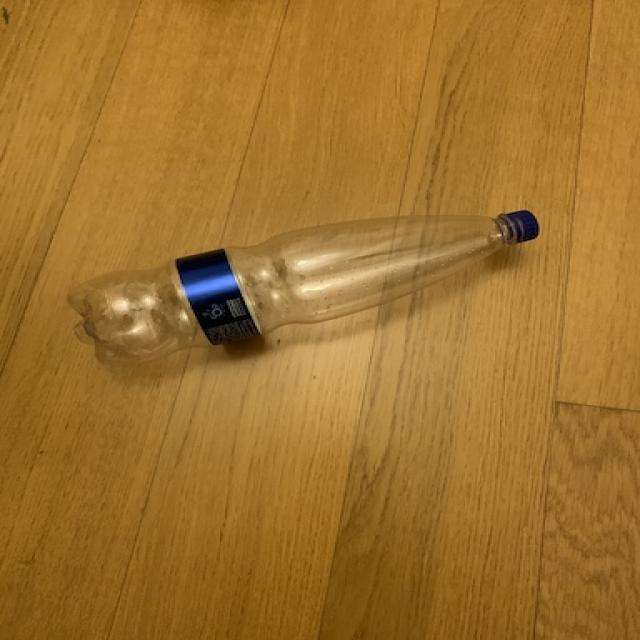Waste: (68, 211, 538, 363)
